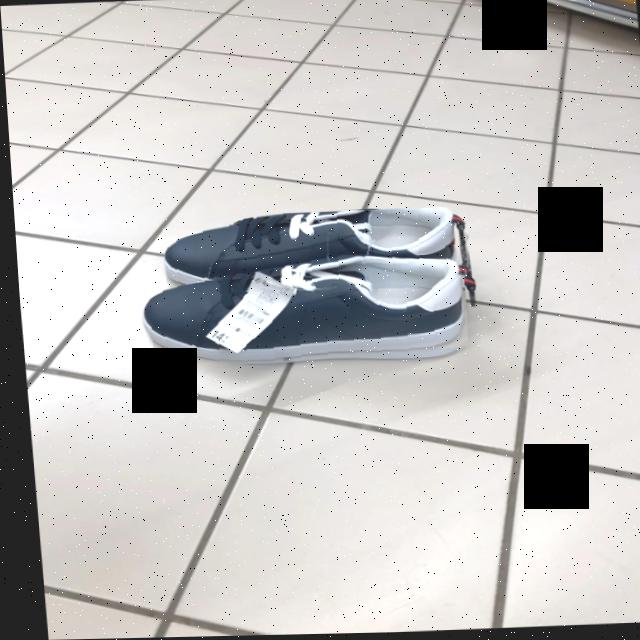shoe: (146, 275, 463, 363), (160, 210, 465, 283)
